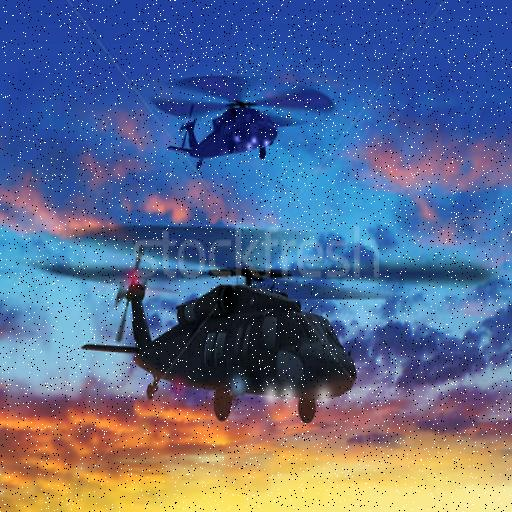helicopter: (92, 249, 357, 429), (142, 66, 347, 160)
